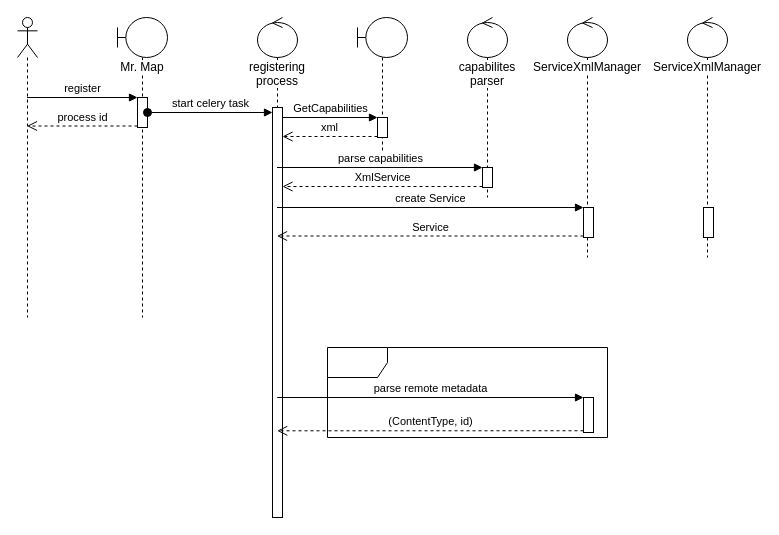
Some shapes in this 779 by 535 pixel diagram are drawn without their labels. Each missing label, with the box of its shape:
par: (326, 346, 608, 438)
remote service: (356, 16, 408, 158)
